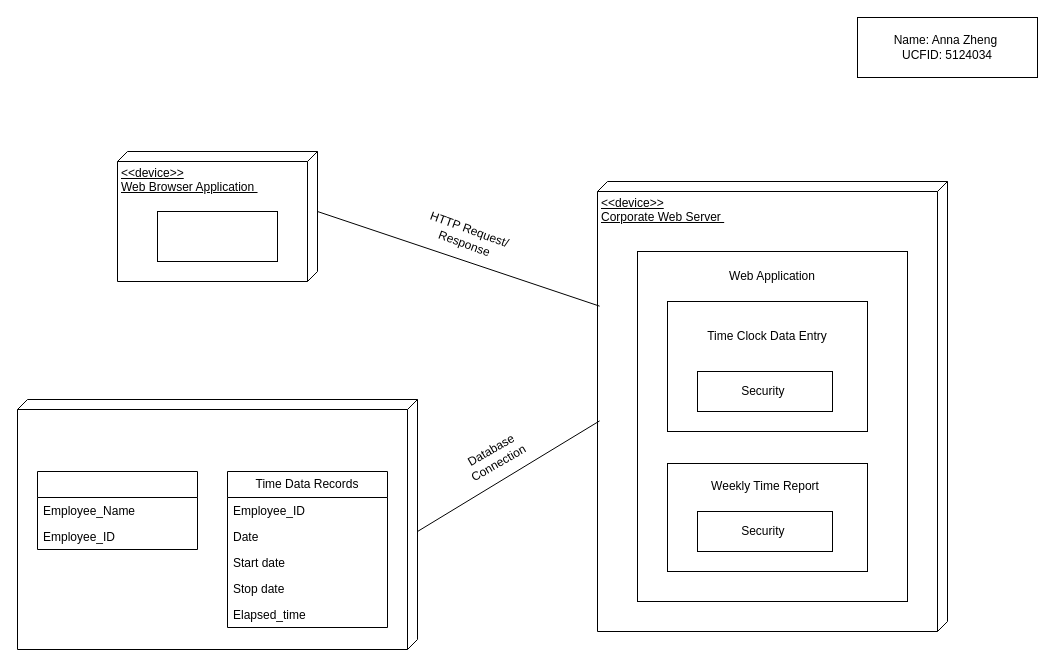
Image size: 1055x667. Some labels were removed from this diagram. Here are the shapes that lost their labels. From the top down, the box of each, then its label:
(156, 210, 278, 262): Website
(36, 470, 198, 550): Employee Records
(16, 398, 418, 650): <<device>> Time Clock Database
